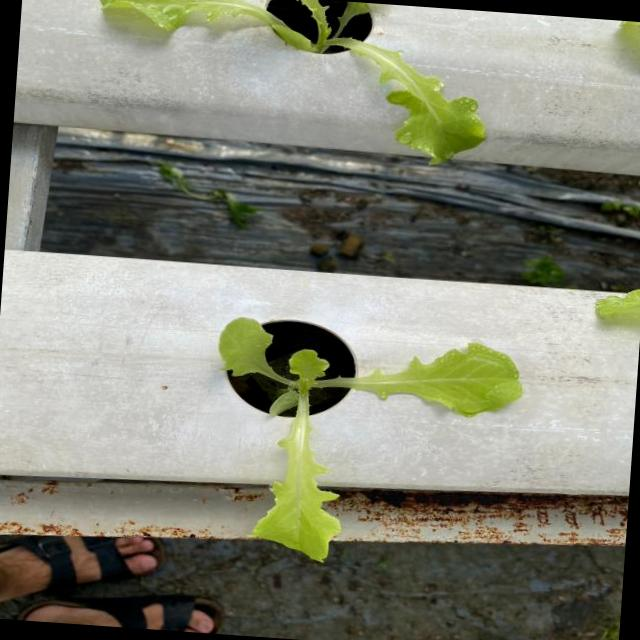Lettuce-Not-Ready-to-Harvest: (219, 317, 522, 560), (102, 0, 484, 156)
